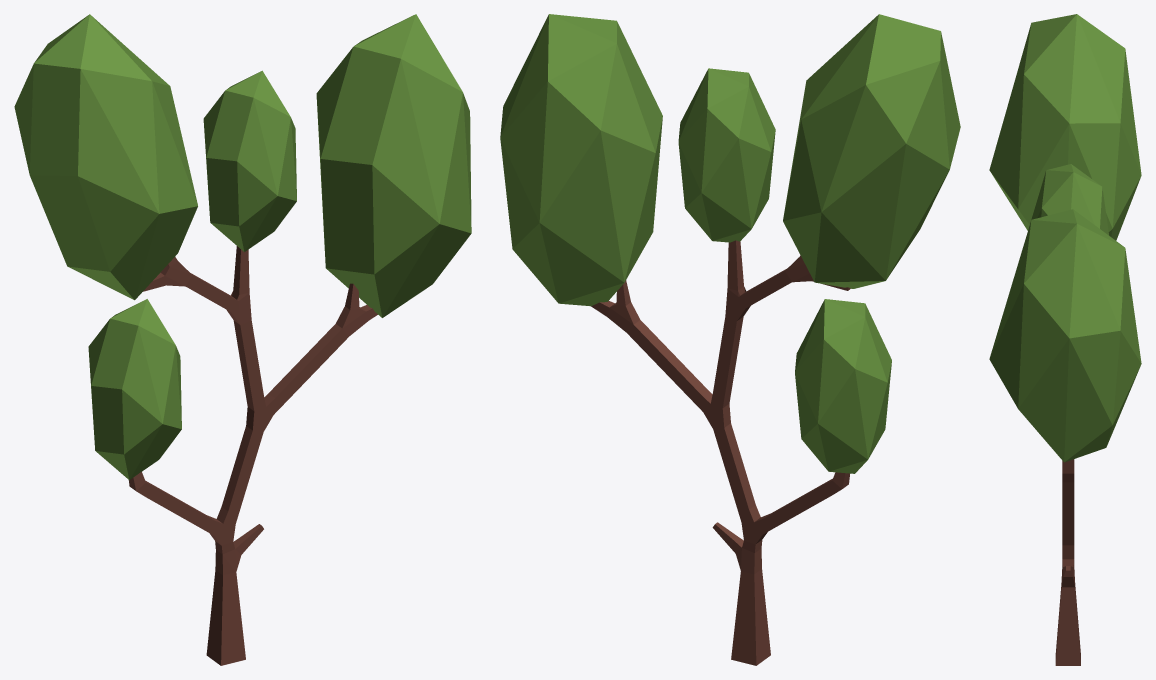
The model's file is tree_8.fbx.
3 renders of one model, left to right at view 1: azimuth 30°, elevation 25°; view 2: azimuth 150°, elevation 25°; view 3: azimuth 270°, elevation 25°, orthographic. The views are drawn at different scales.
Parts seen in each view (by area): view 1: Plane.022; view 2: Plane.022; view 3: Plane.022.
Part boxes in pixels (<box>): Plane.022: <box>14,14,471,665</box>; Plane.022: <box>500,14,960,665</box>; Plane.022: <box>989,14,1141,665</box>.
Bounding box in the file's own units: 453 × 660 × 154.
